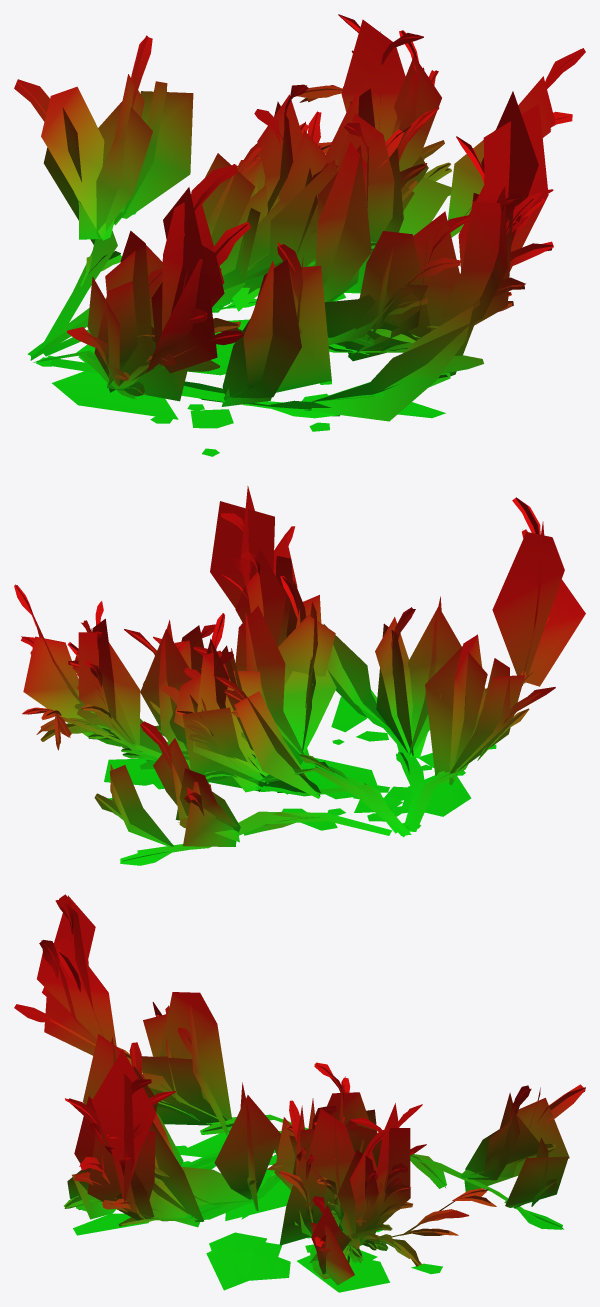
Rendered from River Saltbush_LOD2_Var4_vdfpcgbia.fbx.
3 views of the same model, one above another, from view 1: azimuth 30°, elevation 25°; view 2: azimuth 150°, elevation 25°; view 3: azimuth 270°, elevation 25° (orthographic). The views are drawn at different scales.
Visible parts, largest first — view 1: _04yh_Var4_LOD2; view 2: _04yh_Var4_LOD2; view 3: _04yh_Var4_LOD2.
Part boxes in pixels (box(x1,y1,x2,y2)): _04yh_Var4_LOD2: box(14, 14, 585, 456); _04yh_Var4_LOD2: box(14, 486, 585, 865); _04yh_Var4_LOD2: box(14, 894, 585, 1292).
Bounding box in the file's own units: 50.66 × 24.65 × 50.38.
